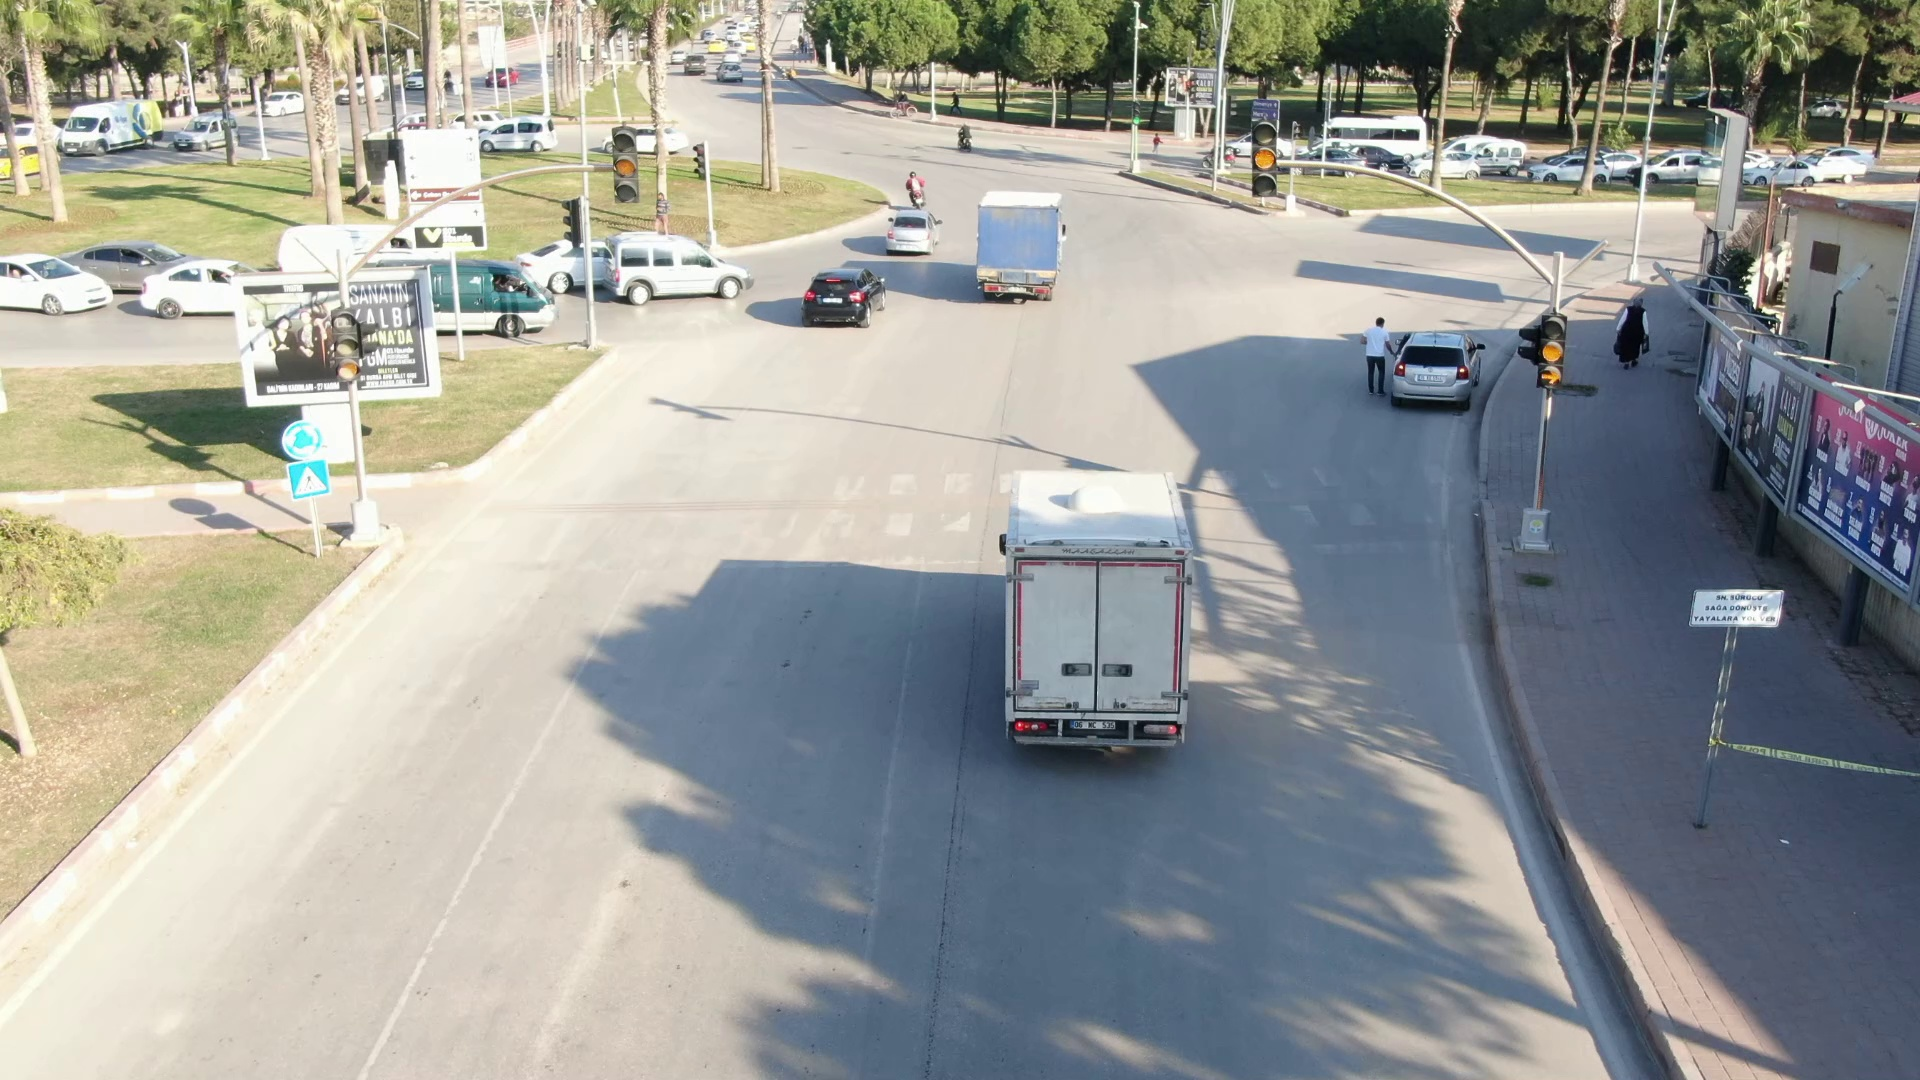car: (972, 451, 1242, 767), (600, 223, 762, 307), (967, 189, 1087, 302), (1389, 325, 1496, 419), (1, 245, 119, 323), (795, 260, 900, 333), (880, 210, 942, 254)
person: (1605, 284, 1664, 373), (1353, 310, 1397, 399)
